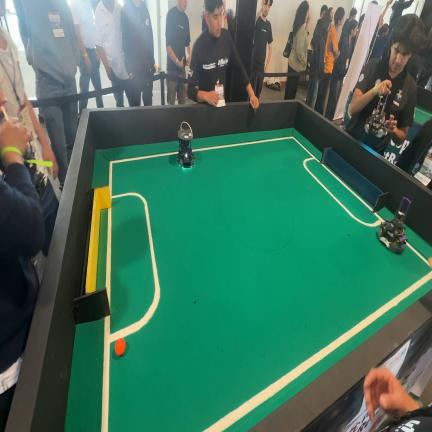cancha: (65, 130, 431, 431)
limites: (102, 193, 160, 431)
robot: (378, 198, 411, 253), (365, 94, 388, 137), (178, 129, 194, 168)
